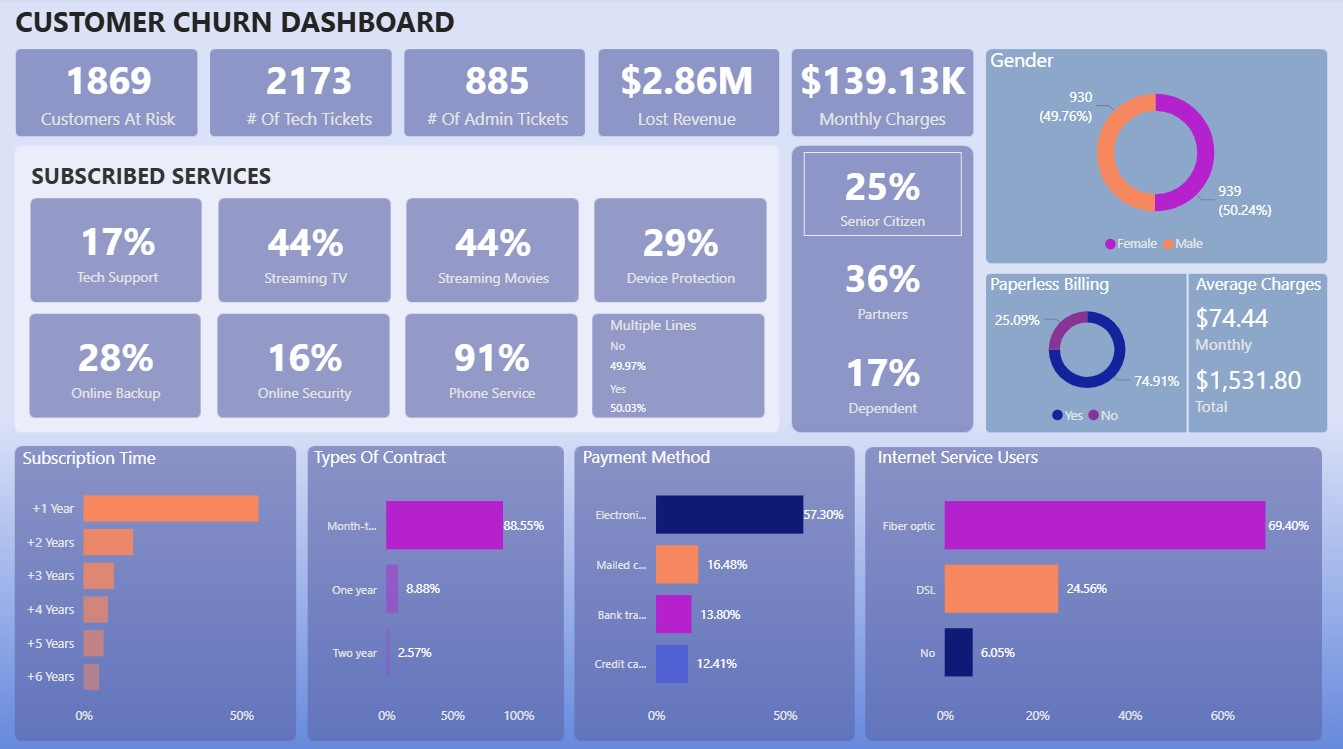

This screenshot's page, from the dashboard's own definition file:
{"tool":"powerbi","page":{"name":"Churn Dashboard","canvas":[1280,720],"ordinal":0},"visuals":[{"type":"textbox","box":[9.5,0,520.2,46.4],"z":0},{"type":"card","fields":{"Values":["Count(01 Churn-Dataset.customerID)"]},"box":[22.6,46.7,161.2,85.9],"z":1000},{"type":"card","fields":{"Values":["01 Churn-Dataset.# Of Admin Tickets"]},"box":[399.2,46.7,150.6,85.9],"z":2000},{"type":"card","fields":{"Values":["01 Churn-Dataset.# Of Tech Tickets"]},"box":[213.9,46.7,161.2,85.9],"z":3000},{"type":"card","fields":{"Values":["Sum(01 Churn-Dataset.TotalCharges)"]},"box":[576.9,46.7,153.6,85.9],"z":4000},{"type":"card","fields":{"Values":["Sum(01 Churn-Dataset.MonthlyCharges)"]},"box":[754.6,46.7,171.7,85.9],"z":5000},{"type":"donutChart","title":"Gender","fields":{"Y":["CountNonNull(01 Churn-Dataset.customerID)"],"Category":["01 Churn-Dataset.gender"]},"box":[938.4,46.7,325.3,207],"z":6000},{"type":"card","fields":{"Values":["01 Churn-Dataset.Tech Support"]},"box":[39,198.7,145.9,84.3],"z":7000},{"type":"card","fields":{"Values":["01 Churn-Dataset.Streaming TV"]},"box":[218.8,200,145,84.3],"z":8000},{"type":"card","fields":{"Values":["01 Churn-Dataset.Streaming Movies"]},"box":[397.4,200,145,84.3],"z":9000},{"type":"card","fields":{"Values":["01 Churn-Dataset.Device Protection"]},"box":[576,200,145,84.3],"z":10000},{"type":"card","fields":{"Values":["01 Churn-Dataset.Online Backup"]},"box":[37.7,309.4,145,84.3],"z":11000},{"type":"card","fields":{"Values":["01 Churn-Dataset.Online Security"]},"box":[217.6,309.4,145,84.3],"z":12000},{"type":"card","fields":{"Values":["01 Churn-Dataset.Phone Service"]},"box":[396.1,309.4,145,84.3],"z":13000},{"type":"multiRowCard","title":"Multiple Lines","fields":{"Values":["01 Churn-Dataset.MultipleLines","CountNonNull(01 Churn-Dataset.MultipleLines)"]},"box":[576,301.8,144.6,125.8],"z":14000},{"type":"card","fields":{"Values":["01 Churn-Dataset.Senior Citizen"]},"box":[765.9,147.1,150.9,80.5],"z":15000},{"type":"card","fields":{"Values":["01 Churn-Dataset.Partners"]},"box":[765.9,235.2,150.9,80.5],"z":16000},{"type":"card","fields":{"Values":["01 Churn-Dataset.Dependent"]},"box":[765.9,323.2,150.9,85.5],"z":17000},{"type":"clusteredBarChart","title":"Payment Method","fields":{"Category":["01 Churn-Dataset.PaymentMethod"],"Y":["CountNonNull(01 Churn-Dataset.PaymentMethod)"]},"box":[549.6,426.3,270.4,276.7],"z":18000},{"type":"clusteredBarChart","title":"Subscription Time","fields":{"Category":["01 Churn-Dataset.Subscription Time"],"Y":["CountNonNull(01 Churn-Dataset.Subscription Time)"]},"box":[16.3,427.6,260.3,275.4],"z":19000},{"type":"donutChart","title":"Paperless Billing","fields":{"Y":["CountNonNull(01 Churn-Dataset.customerID)"],"Category":["01 Churn-Dataset.PaperlessBilling"]},"box":[938.2,261.6,194.9,154.7],"z":20000},{"type":"clusteredBarChart","title":"Internet Service Users","fields":{"Category":["01 Churn-Dataset.InternetService"],"Y":["CountNonNull(01 Churn-Dataset.InternetService)"]},"box":[831.3,426.3,432.6,276.7],"z":21000},{"type":"clusteredBarChart","title":"Types Of Contract","fields":{"Category":["01 Churn-Dataset.Contract"],"Y":["CountNonNull(01 Churn-Dataset.Contract)"]},"box":[294.3,426.3,244,276.7],"z":22000},{"type":"multiRowCard","title":"Average Charges","fields":{"Values":["Avg(01 Churn-Dataset.MonthlyCharges)","Avg(01 Churn-Dataset.TotalCharges)"]},"box":[1133.1,261.6,130.8,154.7],"z":23000},{"type":"textbox","box":[25,150,265.5,40.5],"z":24000}]}

Visuals, with their boxes in screenshot pixels (x1, y1, x2, y2), scaled from the page's 1280x720 canvas onto the 1343x749 screenshot:
textbox: 10 0 556 48
card - Count(01 Churn-Dataset.customerID): 24 49 193 138
card - 01 Churn-Dataset.# Of Admin Tickets: 419 49 577 138
card - 01 Churn-Dataset.# Of Tech Tickets: 224 49 394 138
card - Sum(01 Churn-Dataset.TotalCharges): 605 49 766 138
card - Sum(01 Churn-Dataset.MonthlyCharges): 792 49 972 138
"Gender" donutChart: 985 49 1326 264
card - 01 Churn-Dataset.Tech Support: 41 207 194 294
card - 01 Churn-Dataset.Streaming TV: 230 208 382 296
card - 01 Churn-Dataset.Streaming Movies: 417 208 569 296
card - 01 Churn-Dataset.Device Protection: 604 208 756 296
card - 01 Churn-Dataset.Online Backup: 40 322 192 410
card - 01 Churn-Dataset.Online Security: 228 322 380 410
card - 01 Churn-Dataset.Phone Service: 416 322 568 410
"Multiple Lines" multiRowCard: 604 314 756 445
card - 01 Churn-Dataset.Senior Citizen: 804 153 962 237
card - 01 Churn-Dataset.Partners: 804 245 962 328
card - 01 Churn-Dataset.Dependent: 804 336 962 425
"Payment Method" clusteredBarChart: 577 443 860 731
"Subscription Time" clusteredBarChart: 17 445 290 731
"Paperless Billing" donutChart: 984 272 1189 433
"Internet Service Users" clusteredBarChart: 872 443 1326 731
"Types Of Contract" clusteredBarChart: 309 443 565 731
"Average Charges" multiRowCard: 1189 272 1326 433
textbox: 26 156 305 198
